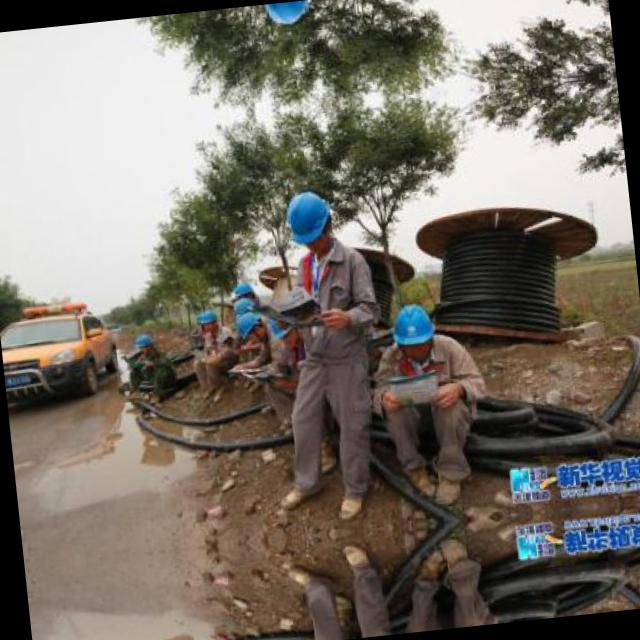helmet: (280, 185, 339, 252), (385, 298, 436, 362), (261, 0, 317, 30), (232, 311, 267, 344), (231, 296, 261, 320), (197, 305, 220, 333), (232, 279, 256, 303), (135, 330, 154, 352)
